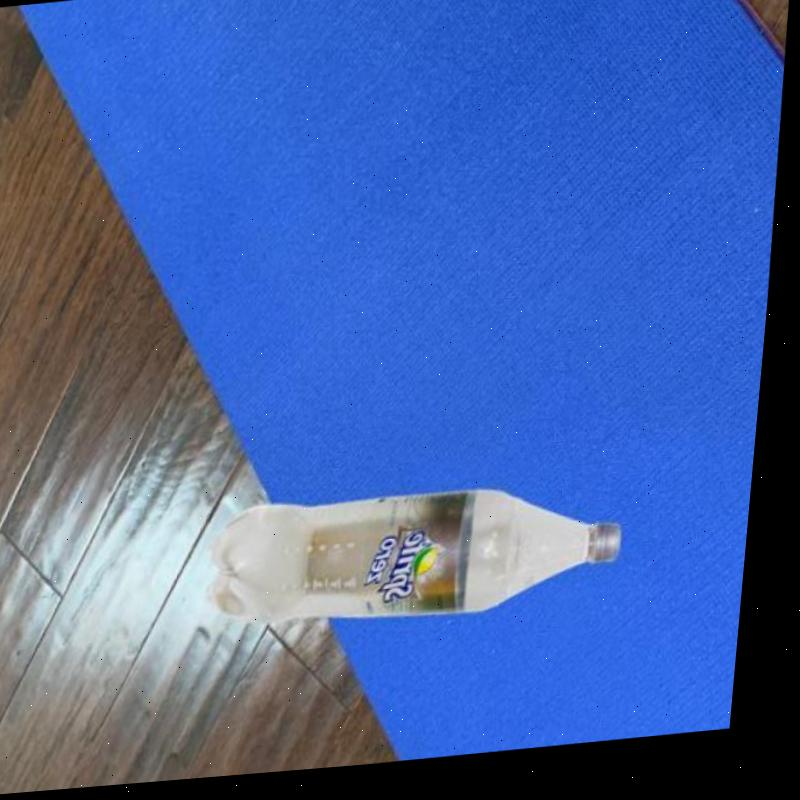botella: (209, 478, 640, 643)
